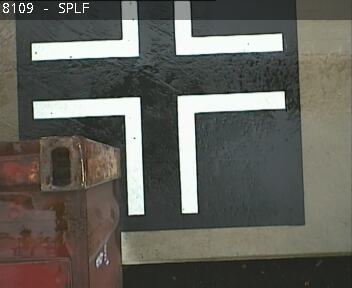groundmarker_1: (31, 89, 285, 215), (30, 1, 284, 61)
